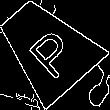P_NW: (15, 16, 77, 78)
